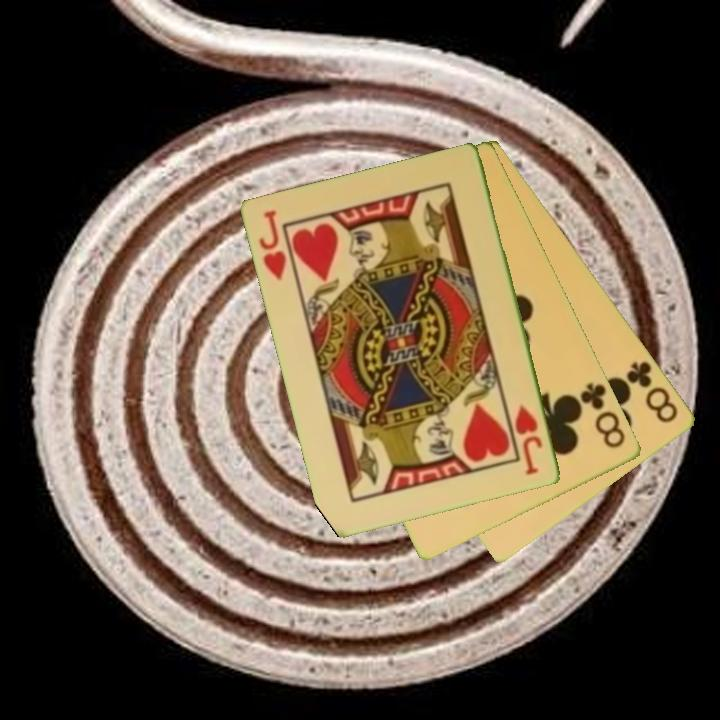8c: (623, 357, 682, 426), (577, 379, 629, 452)
Jh: (255, 206, 290, 284), (511, 401, 546, 478)
